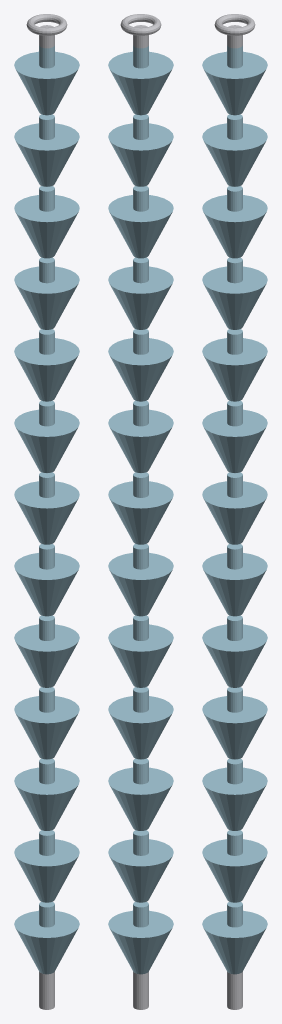
The model's file is Cadena_1655mm.fbx.
3 renders of one model, left to right at view 1: azimuth 90°, elevation 25°; view 2: azimuth 150°, elevation 25°; view 3: azimuth 270°, elevation 25°, orthographic.
Parts seen in each view (by area): view 1: Cadena_1655mm; view 2: Cadena_1655mm; view 3: Cadena_1655mm.
Part boxes in pixels (x1,y1,x2,y2): Cadena_1655mm: (14,14,79,1009); Cadena_1655mm: (108,14,173,1009); Cadena_1655mm: (202,14,267,1009).
Bounding box in the file's own units: 10 × 165 × 10.
